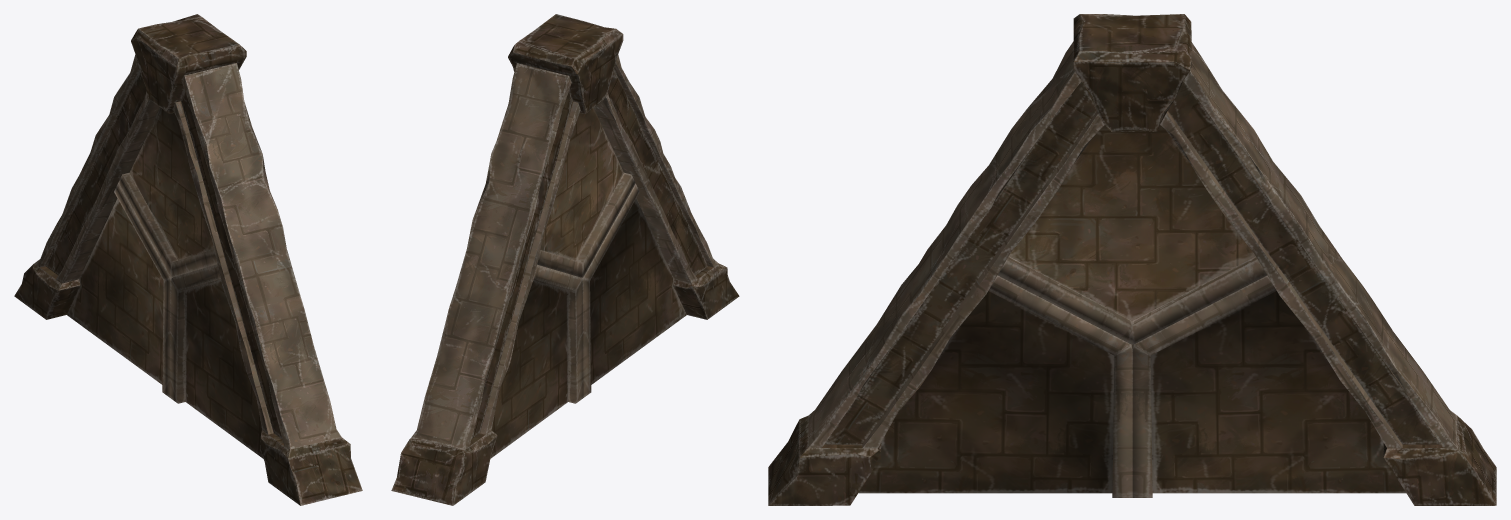
File: Puerta.fbx
3 renders of one model, left to right at view 1: azimuth 30°, elevation 25°; view 2: azimuth 150°, elevation 25°; view 3: azimuth 270°, elevation 25°, orthographic. The views are drawn at different scales.
Visible parts, largest first — view 1: puerta baja, puerta2.2 low.001, puerta2.2 low.002, puerta2.1 low.001; view 2: puerta baja, puerta2.2 low.002, puerta2.2 low.001, puerta2.1 low.001; view 3: puerta baja, puerta2.2 low.002, puerta2.2 low.001, puerta2.1 low.001.
Boxes of the visible parts, x1,y1,x2,y2 form: puerta baja: [14, 14, 362, 505]; puerta2.2 low.001: [67, 183, 172, 397]; puerta2.2 low.002: [170, 264, 263, 458]; puerta2.1 low.001: [118, 107, 217, 277]; puerta baja: [391, 14, 739, 505]; puerta2.2 low.002: [581, 183, 686, 397]; puerta2.2 low.001: [490, 264, 583, 458]; puerta2.1 low.001: [537, 107, 635, 277]; puerta baja: [768, 14, 1496, 505]; puerta2.2 low.002: [858, 275, 1132, 497]; puerta2.2 low.001: [1132, 275, 1405, 497]; puerta2.1 low.001: [998, 125, 1266, 344].
Bounding box in the file's own units: 43.78 × 213 × 310.
Materials: 3 (3 with a texture image).
